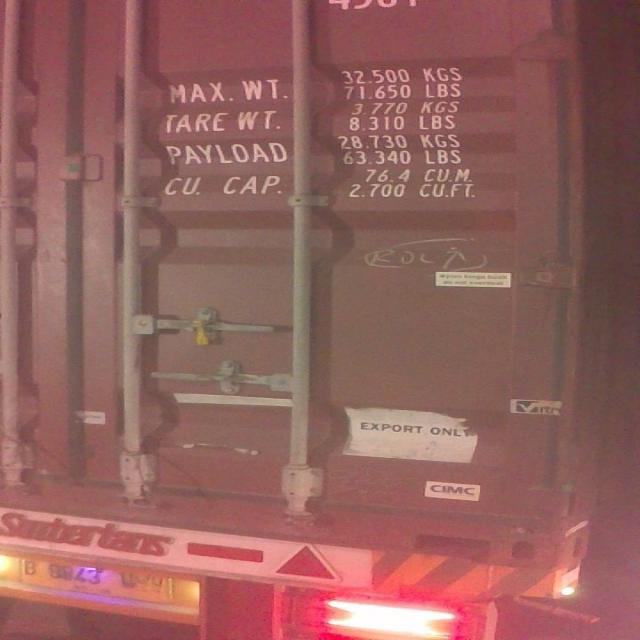seal: (188, 313, 213, 348)
